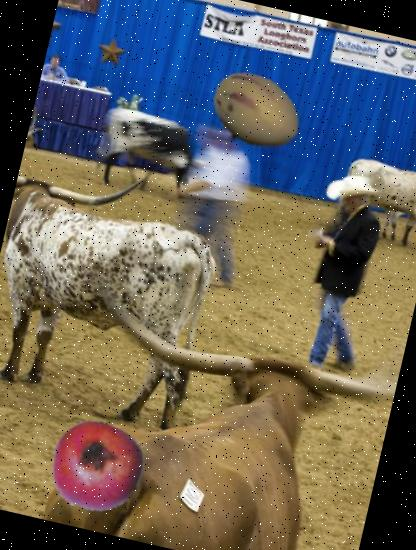Pepino: (198, 55, 312, 168)
Pomegranate: (42, 412, 150, 520)
